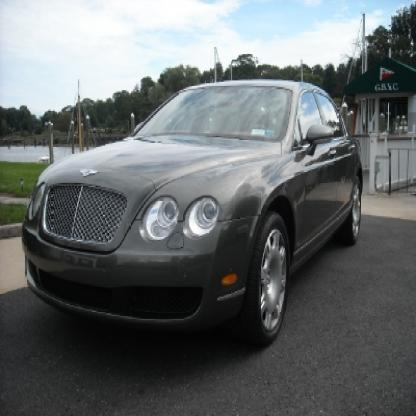Vehicle: (24, 80, 365, 344)
